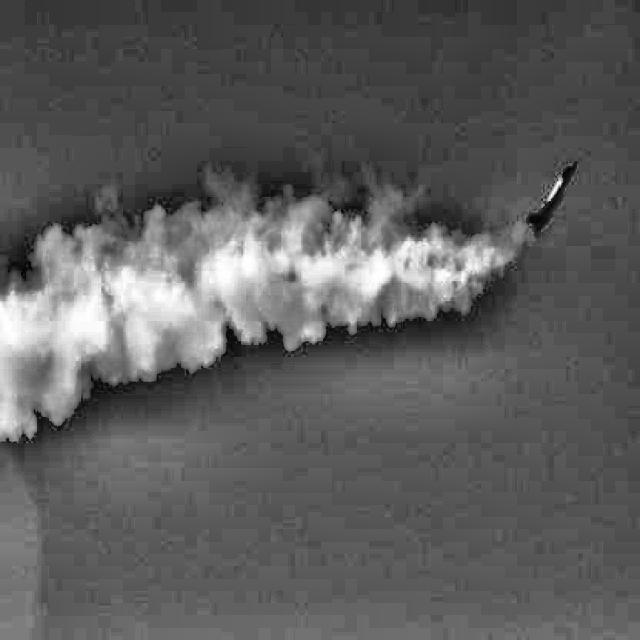F35: (525, 158, 578, 240)
